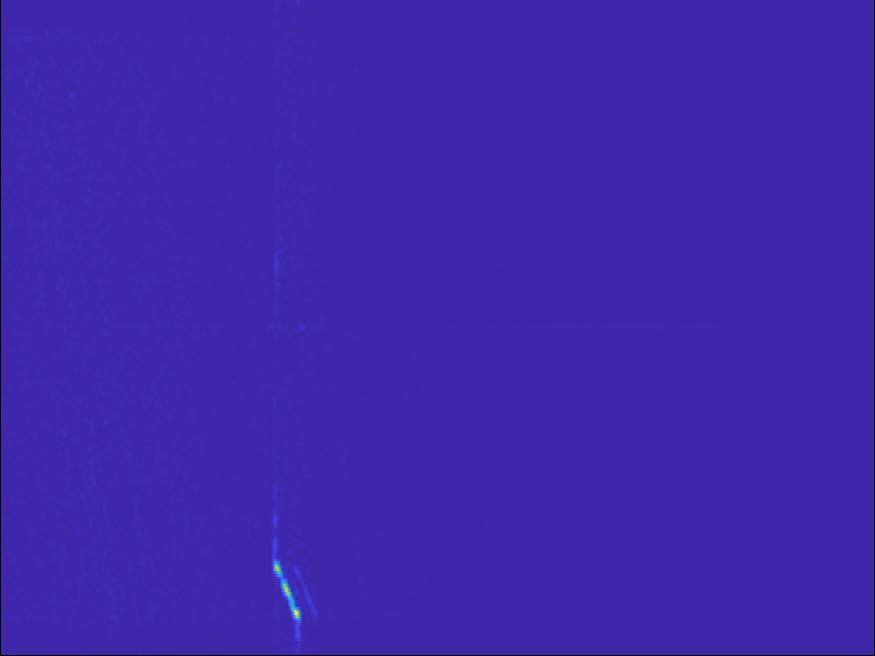Interference: (365, 78, 552, 225), (172, 297, 384, 355), (761, 303, 875, 344), (350, 239, 437, 277)
